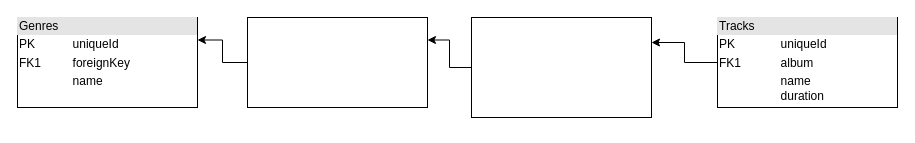
This 915x143 diagram has some shape labels left out. The shapes that lost their labels are listed below. From the top down, each one's centre as x and y in pixels, then its label:
At point 337,62: "Artists PK uniqueId FK1 genre name".
At point 561,67: "Albums PK uniqueId FK1 artist name year".
